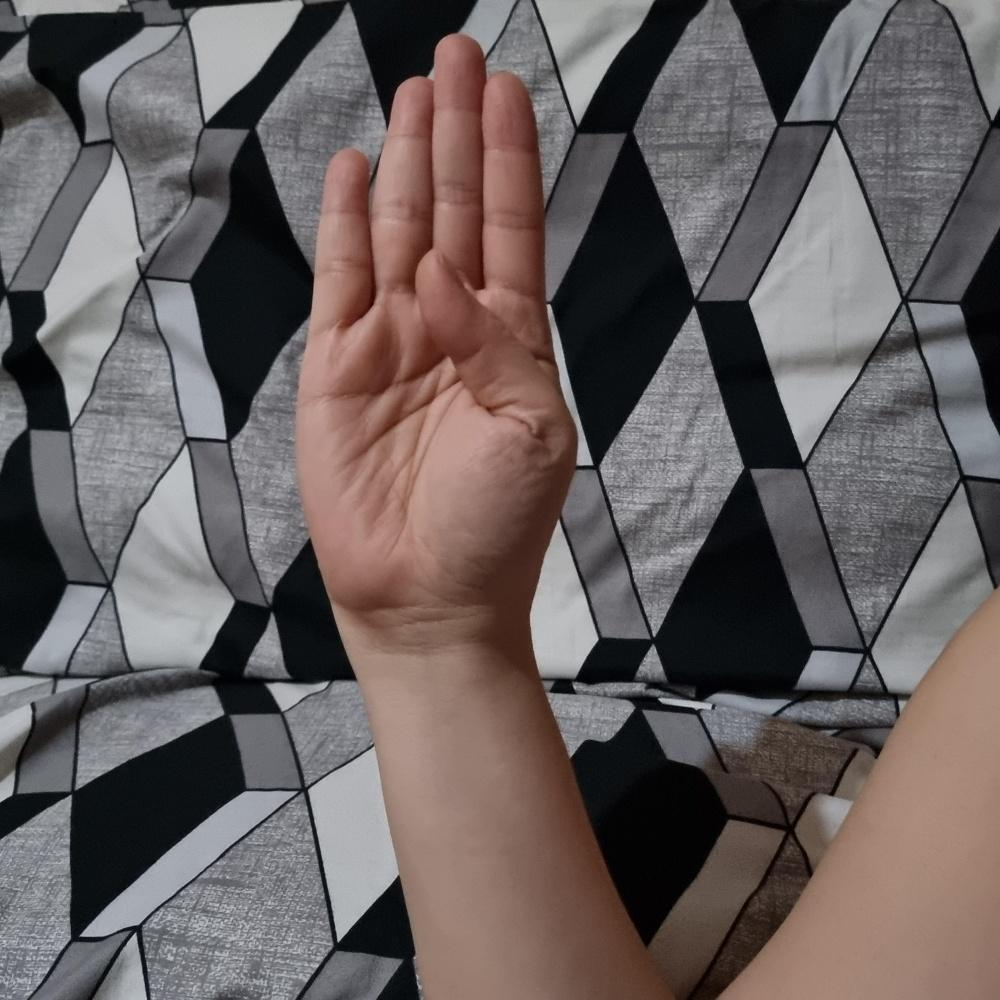b: (291, 26, 585, 637)
